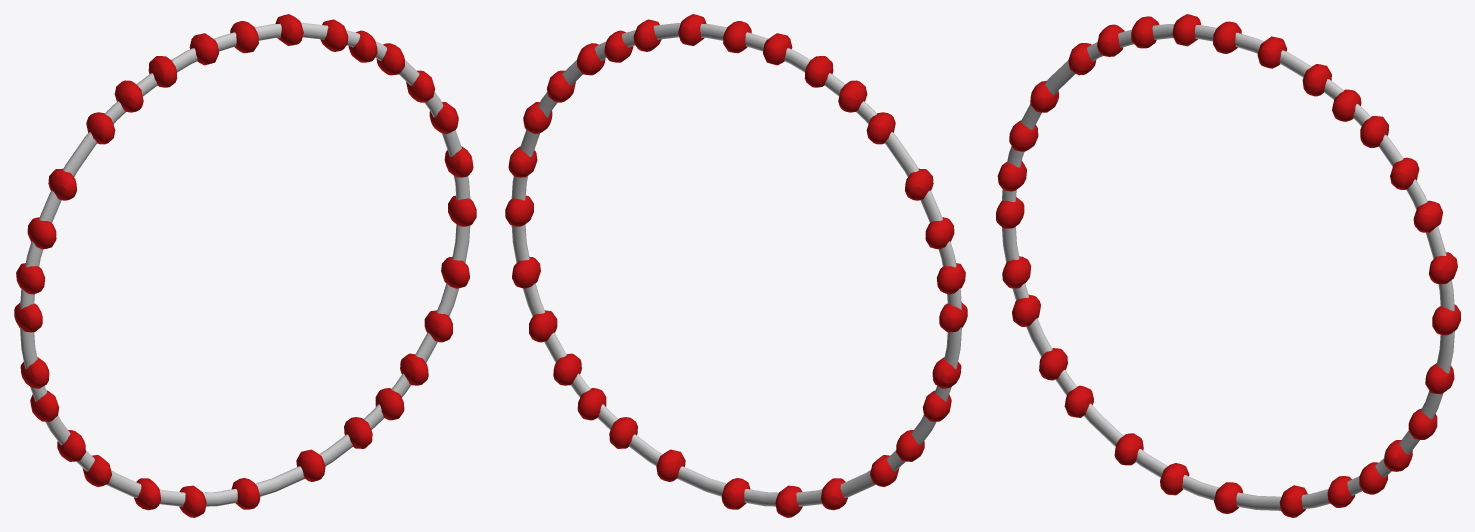
3 views of the same model, side by side, from view 1: azimuth 30°, elevation 25°; view 2: azimuth 150°, elevation 25°; view 3: azimuth 330°, elevation 25° (orthographic).
Parts seen in each view (by area): view 1: Electron_Mball, Ring_Torus; view 2: Electron_Mball, Ring_Torus; view 3: Electron_Mball, Ring_Torus.
Part boxes in pixels (bbox=[...]): Electron_Mball: bbox=[14, 14, 476, 517]; Ring_Torus: bbox=[20, 23, 470, 506]; Electron_Mball: bbox=[505, 14, 967, 517]; Ring_Torus: bbox=[511, 23, 961, 506]; Electron_Mball: bbox=[996, 14, 1460, 517]; Ring_Torus: bbox=[1002, 24, 1454, 510].
Size of the model in its own units: 2.91 by 2.96 by 0.2139.
